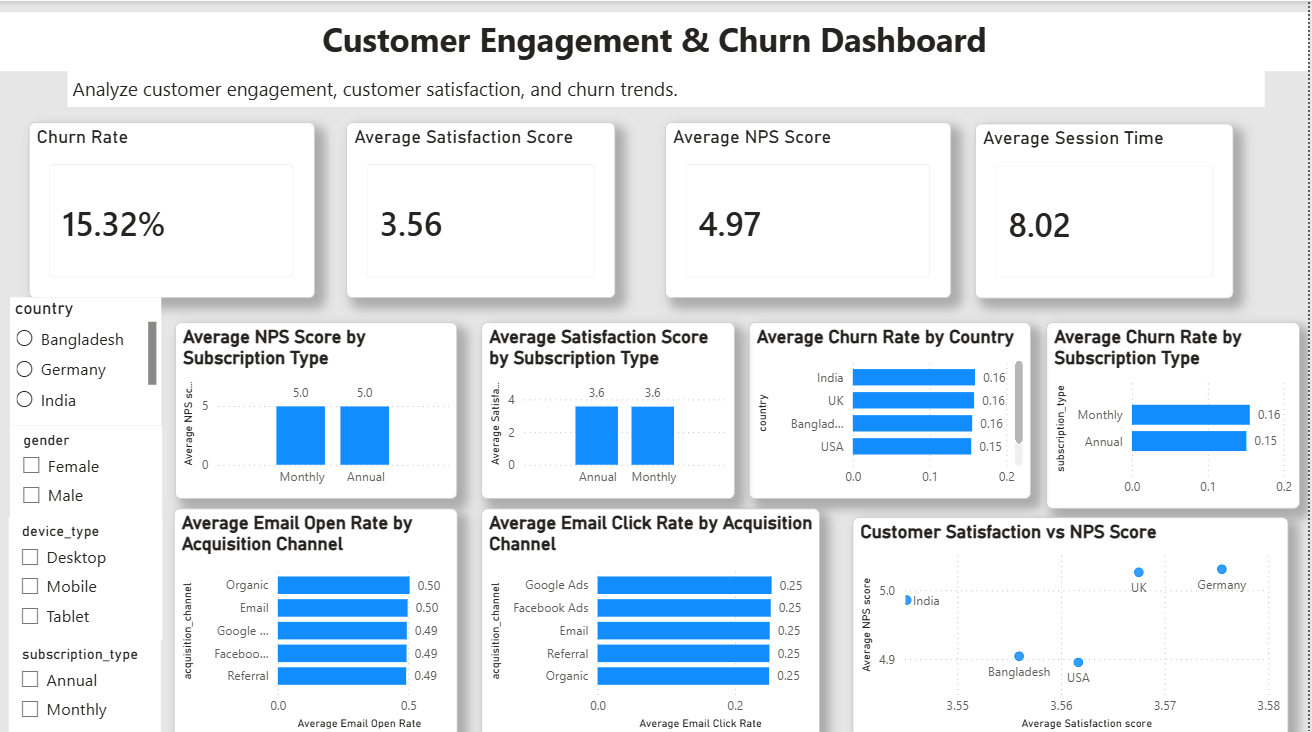

The page's visual inventory and layout, read from the dashboard file:
{"tool":"powerbi","page":{"name":"Customer Engagement & Churn","canvas":[1280,720],"ordinal":3},"visuals":[{"type":"textbox","box":[0,11,1280.3,57.5],"z":1000},{"type":"textbox","box":[66,68.5,1171.5,35.5],"z":2000},{"type":"cardVisual","title":"Churn Rate","fields":{"Data":["CRMdataset.churn rate"]},"box":[28.3,118.1,279.9,172.1],"z":3000},{"type":"cardVisual","title":"Average NPS Score","fields":{"Data":["CRMdataset.Average NPS score"]},"box":[651,118.1,279.9,172.1],"z":4000},{"type":"cardVisual","title":"Average Session Time","fields":{"Data":["CRMdataset.Average Session Time"]},"box":[953.8,119.8,253.1,171.2],"z":5000},{"type":"cardVisual","title":"Average Satisfaction Score","fields":{"Data":["CRMdataset.Average Satisfaction score"]},"box":[339,118.1,263.2,172.1],"z":6000},{"type":"clusteredBarChart","title":"Average Churn Rate by Subscription Type","fields":{"Category":["CRMdataset.subscription_type"],"Y":["CRMdataset.churn rate"]},"box":[1023.5,314.3,248.2,182.2],"z":7000},{"type":"clusteredBarChart","title":"Average Churn Rate by Country","fields":{"Category":["CRMdataset.country"],"Y":["CRMdataset.churn rate"]},"box":[732.5,314.3,276.4,172.4],"z":7001},{"type":"clusteredColumnChart","title":"Average Satisfaction Score by Subscription Type","fields":{"Category":["CRMdataset.subscription_type"],"Y":["CRMdataset.Average Satisfaction score"]},"box":[470.8,314.3,248.2,172.4],"z":7002},{"type":"clusteredColumnChart","title":"Average NPS Score by Subscription Type","fields":{"Category":["CRMdataset.subscription_type"],"Y":["CRMdataset.Average NPS score"]},"box":[171.2,314.3,276.4,172.4],"z":7003},{"type":"clusteredBarChart","title":"Average Email Open Rate by Acquisition Channel","fields":{"Category":["CRMdataset.acquisition_channel"],"Y":["CRMdataset.Average Email Open Rate"]},"box":[170,496.5,277.6,223.8],"z":7004},{"type":"clusteredBarChart","title":"Average Email Click Rate by Acquisition Channel","fields":{"Category":["CRMdataset.acquisition_channel"],"Y":["CRMdataset.Average Email Click Rate"]},"box":[470.8,496.5,331.4,223.8],"z":7005},{"type":"scatterChart","title":"Customer Satisfaction vs NPS Score","fields":{"X":["CRMdataset.Average Satisfaction score"],"Y":["CRMdataset.Average NPS score"],"Category":["CRMdataset.country"]},"box":[834,505,426.8,215.2],"z":7006},{"type":"slicer","fields":{"Values":["CRMdataset.gender"]},"box":[9.8,415.8,149.2,92.9],"z":7008},{"type":"slicer","fields":{"Values":["CRMdataset.device_type"]},"box":[8.6,505,150.4,119.8],"z":7009},{"type":"slicer","fields":{"Values":["CRMdataset.subscription_type"]},"box":[8.6,624.9,149.2,95.4],"z":7010},{"type":"listSlicer","fields":{"Values":["CRMdataset.country"]},"box":[10,290.1,148.2,125.8],"z":7011}]}

Visuals, with their boxes in screenshot pixels (x1, y1, x2, y2), scaled from the page's 1280x720 canvas onto the 1312x732 screenshot:
textbox: <region>0, 11, 1311, 70</region>
textbox: <region>68, 70, 1268, 106</region>
"Churn Rate" cardVisual: <region>29, 120, 316, 295</region>
"Average NPS Score" cardVisual: <region>667, 120, 954, 295</region>
"Average Session Time" cardVisual: <region>978, 122, 1237, 296</region>
"Average Satisfaction Score" cardVisual: <region>347, 120, 617, 295</region>
"Average Churn Rate by Subscription Type" clusteredBarChart: <region>1049, 320, 1303, 505</region>
"Average Churn Rate by Country" clusteredBarChart: <region>751, 320, 1034, 495</region>
"Average Satisfaction Score by Subscription Type" clusteredColumnChart: <region>483, 320, 737, 495</region>
"Average NPS Score by Subscription Type" clusteredColumnChart: <region>175, 320, 459, 495</region>
"Average Email Open Rate by Acquisition Channel" clusteredBarChart: <region>174, 505, 459, 731</region>
"Average Email Click Rate by Acquisition Channel" clusteredBarChart: <region>483, 505, 822, 731</region>
"Customer Satisfaction vs NPS Score" scatterChart: <region>855, 513, 1292, 731</region>
slicer - CRMdataset.gender: <region>10, 423, 163, 517</region>
slicer - CRMdataset.device_type: <region>9, 513, 163, 635</region>
slicer - CRMdataset.subscription_type: <region>9, 635, 162, 731</region>
listSlicer - CRMdataset.country: <region>10, 295, 162, 423</region>
